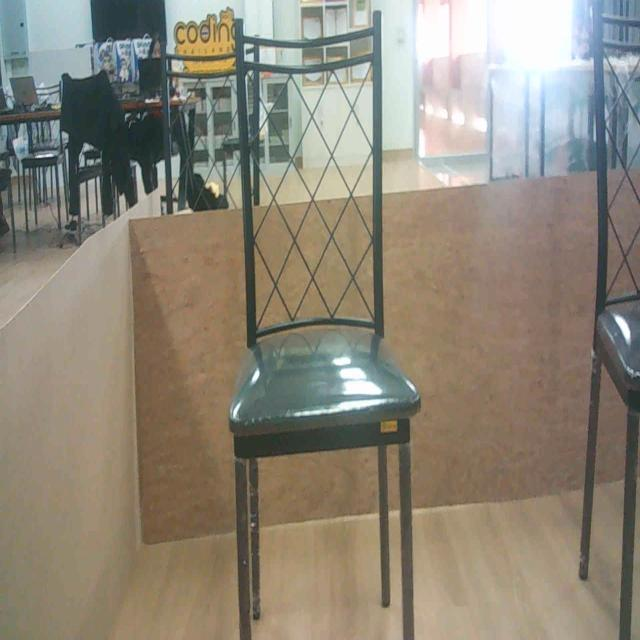emtpy: (220, 10, 431, 640)
